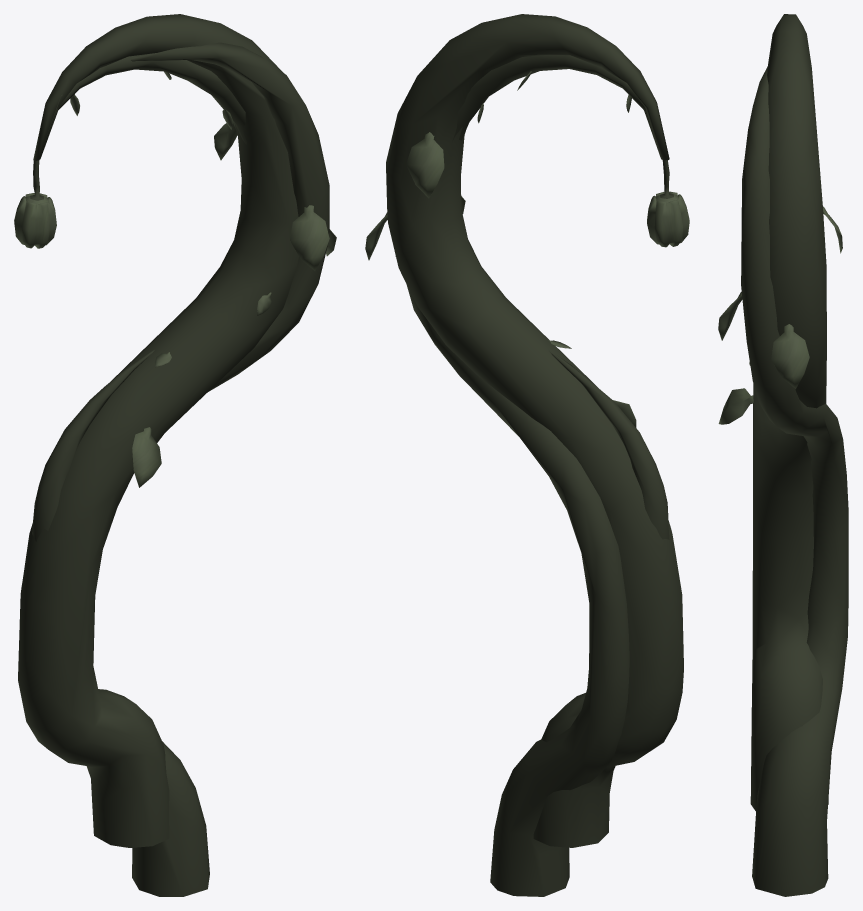
Rendered from Pepper Seedling.fbx.
3 views of the same model, side by side, from view 1: azimuth 30°, elevation 25°; view 2: azimuth 150°, elevation 25°; view 3: azimuth 270°, elevation 25° (orthographic). The views are drawn at different scales.
Parts seen in each view (by area): view 1: BezierCurve; view 2: BezierCurve; view 3: BezierCurve.
Part boxes in pixels (x1,y1,x2,y2): BezierCurve: [14, 14, 336, 896]; BezierCurve: [365, 14, 689, 896]; BezierCurve: [718, 14, 848, 896].
Bounding box in the file's own units: 158 × 416 × 58.68.
